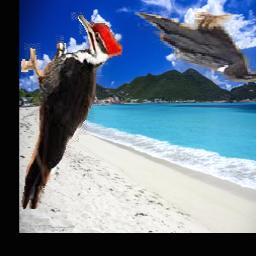Crow: (136, 10, 256, 83)
Woodpecker: (21, 11, 122, 210)
